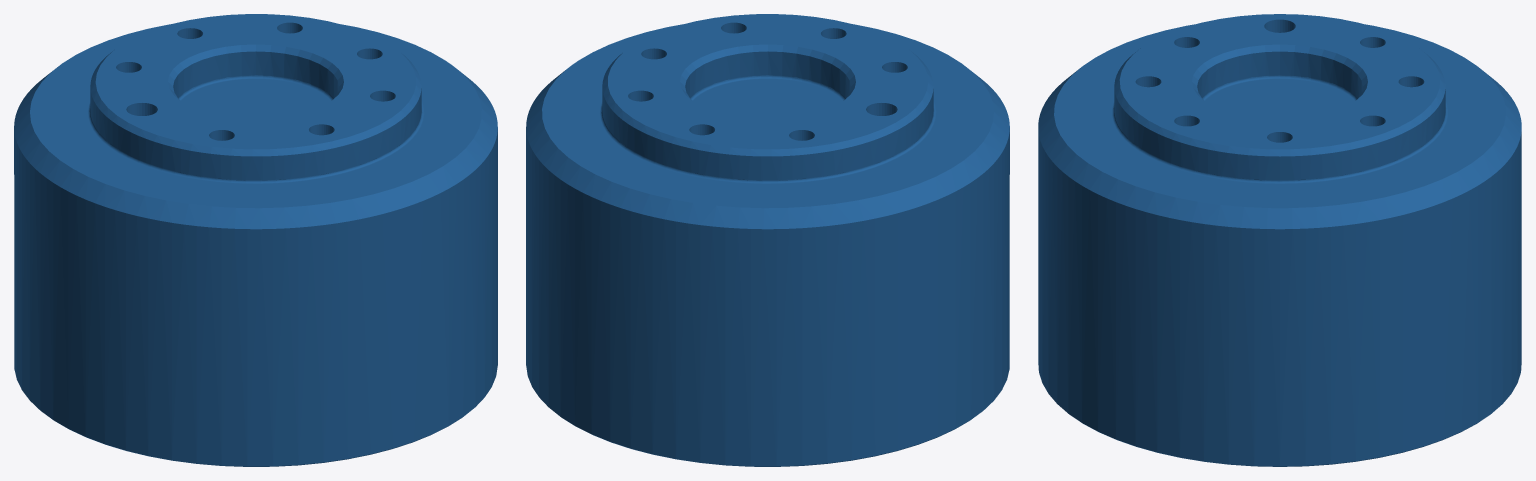
File: FanucCRX10IALLink6.dae
3 renders of one model, left to right at view 1: azimuth 30°, elevation 25°; view 2: azimuth 150°, elevation 25°; view 3: azimuth 270°, elevation 25°, orthographic.
Visible parts, largest first — view 1: CRX10iAL_Link6; view 2: CRX10iAL_Link6; view 3: CRX10iAL_Link6.
Part boxes in pixels (<box>): CRX10iAL_Link6: <box>14,14,497,466</box>; CRX10iAL_Link6: <box>526,14,1009,466</box>; CRX10iAL_Link6: <box>1038,14,1521,466</box>.
Bounding box in the file's own units: 0.092 × 0.092 × 0.0595.
